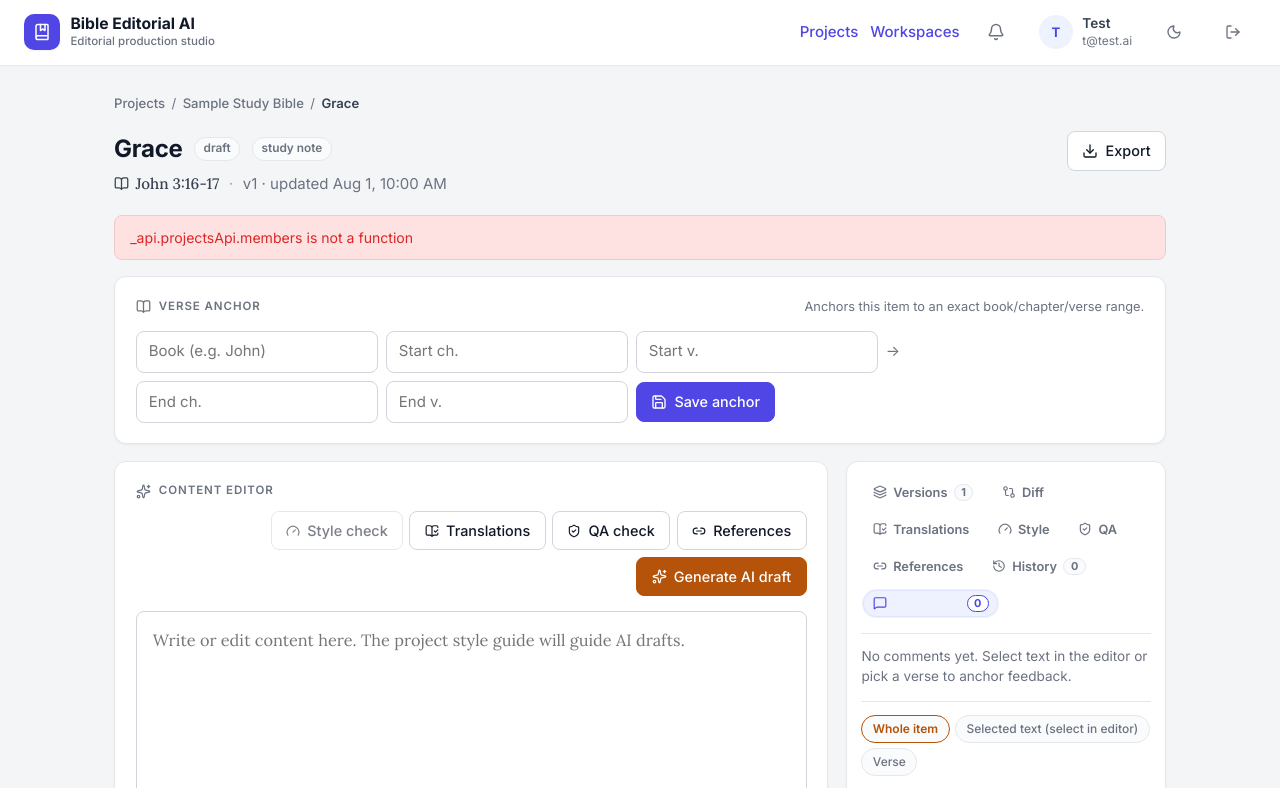
it: Editor translation comparison sidebar › shows the anchored error message when the item has no verse anchor
Expected: the heading "Grace" is shown, [114,131,183,167]
Click the button "Translations" at (478, 531), box [410,511,546,550]
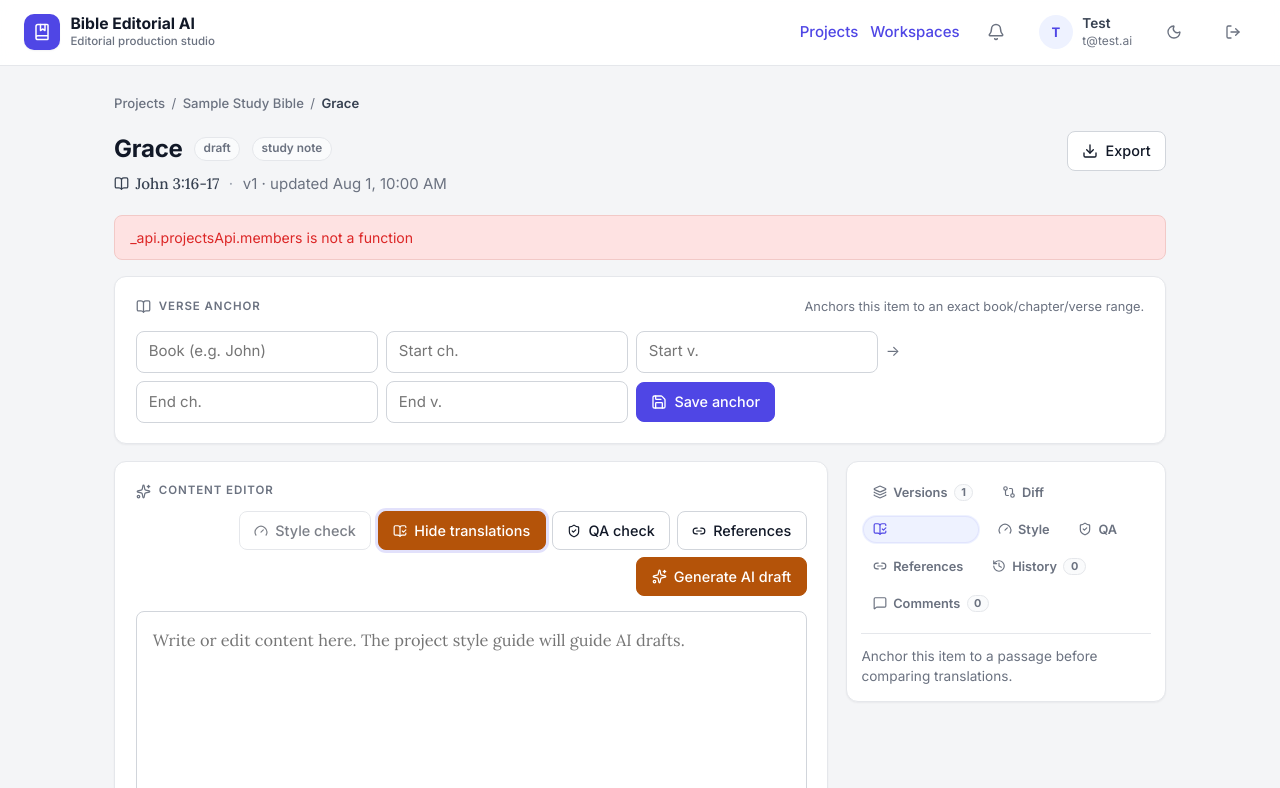
Expected: the text "Anchor this item to a passage before comparing translations." is shown, [861,648,1098,684]
